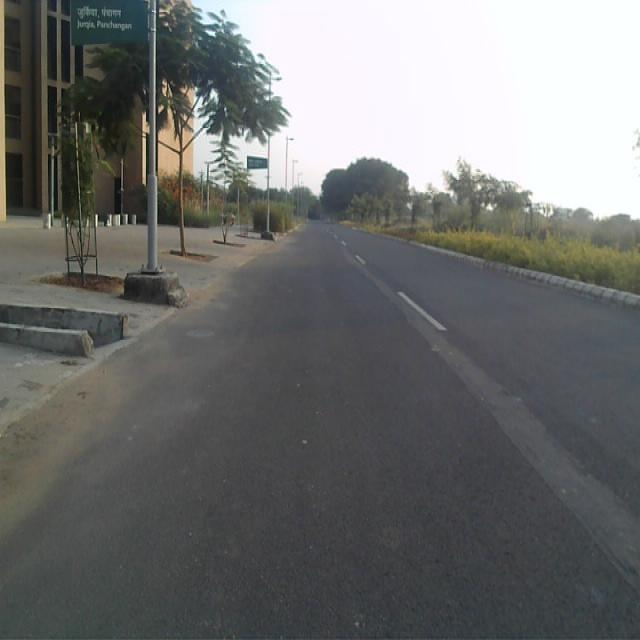lane: (0, 227, 640, 640)
